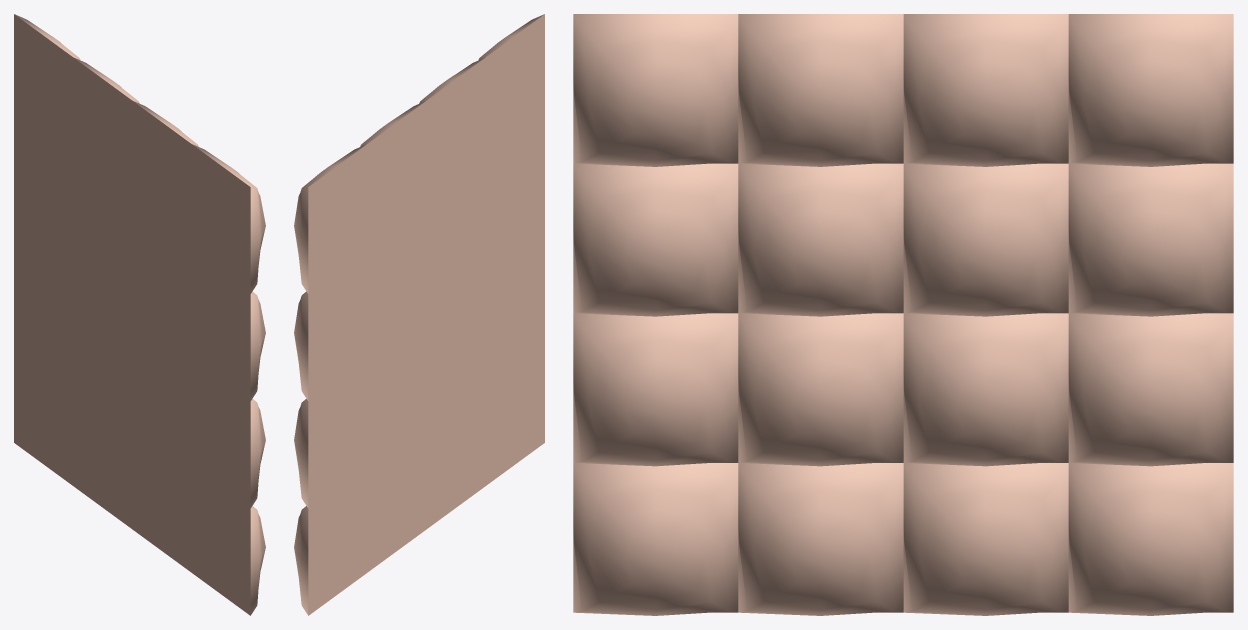
The model's file is m_anthony_roomStructure_wall_a.001.fbx.
3 views of the same model, side by side, from view 1: azimuth 30°, elevation 25°; view 2: azimuth 150°, elevation 25°; view 3: azimuth 270°, elevation 25° (orthographic). The views are drawn at different scales.
Parts seen in each view (by area): view 1: m_anthony_roomStructure_wall_a.001; view 2: m_anthony_roomStructure_wall_a.001; view 3: m_anthony_roomStructure_wall_a.001.
Part boxes in pixels (<box>): m_anthony_roomStructure_wall_a.001: <box>14,14,265,615</box>; m_anthony_roomStructure_wall_a.001: <box>294,14,544,615</box>; m_anthony_roomStructure_wall_a.001: <box>573,14,1233,615</box>.
Bounding box in the file's own units: 25.49 × 300 × 300.
